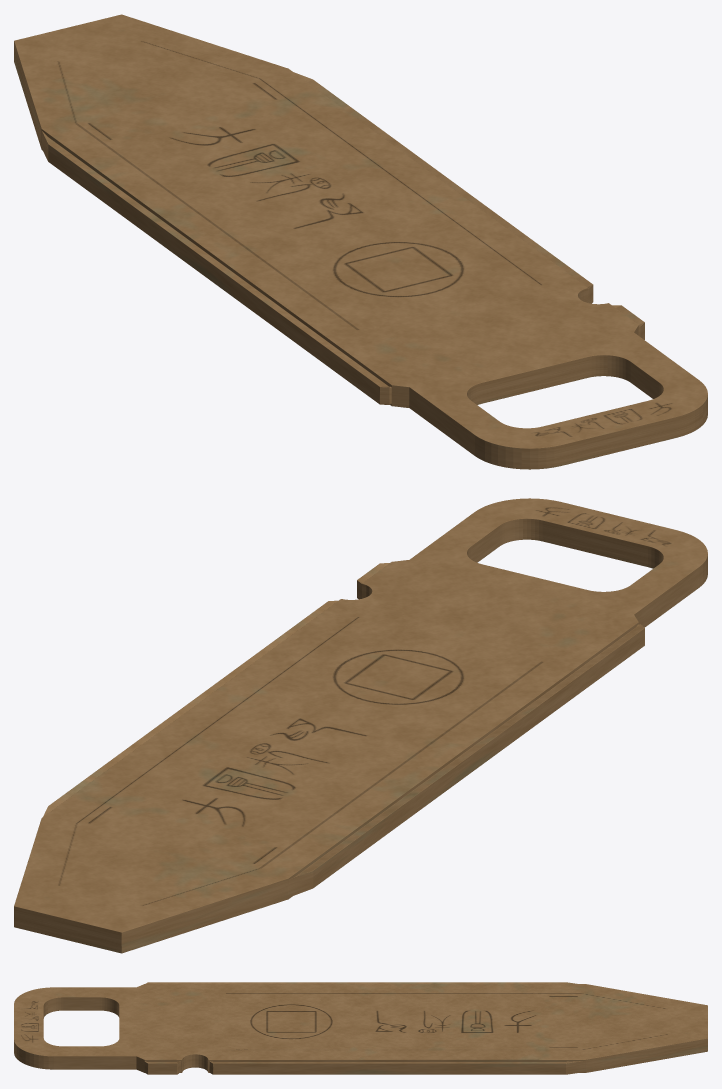
The model's file is CopperLeaf.fbx.
3 renders of one model, top to bottom at view 1: azimuth 30°, elevation 25°; view 2: azimuth 150°, elevation 25°; view 3: azimuth 270°, elevation 25°, orthographic. The views are drawn at different scales.
Visible parts, largest first — view 1: CopperLeaf; view 2: CopperLeaf; view 3: CopperLeaf.
Part boxes in pixels (left/top/right/bottom): CopperLeaf: left=14, top=14, right=707, bottom=469; CopperLeaf: left=14, top=498, right=707, bottom=953; CopperLeaf: left=14, top=982, right=707, bottom=1074.
Size of the model in its own units: 0.0236 by 0.0018 by 0.085.
